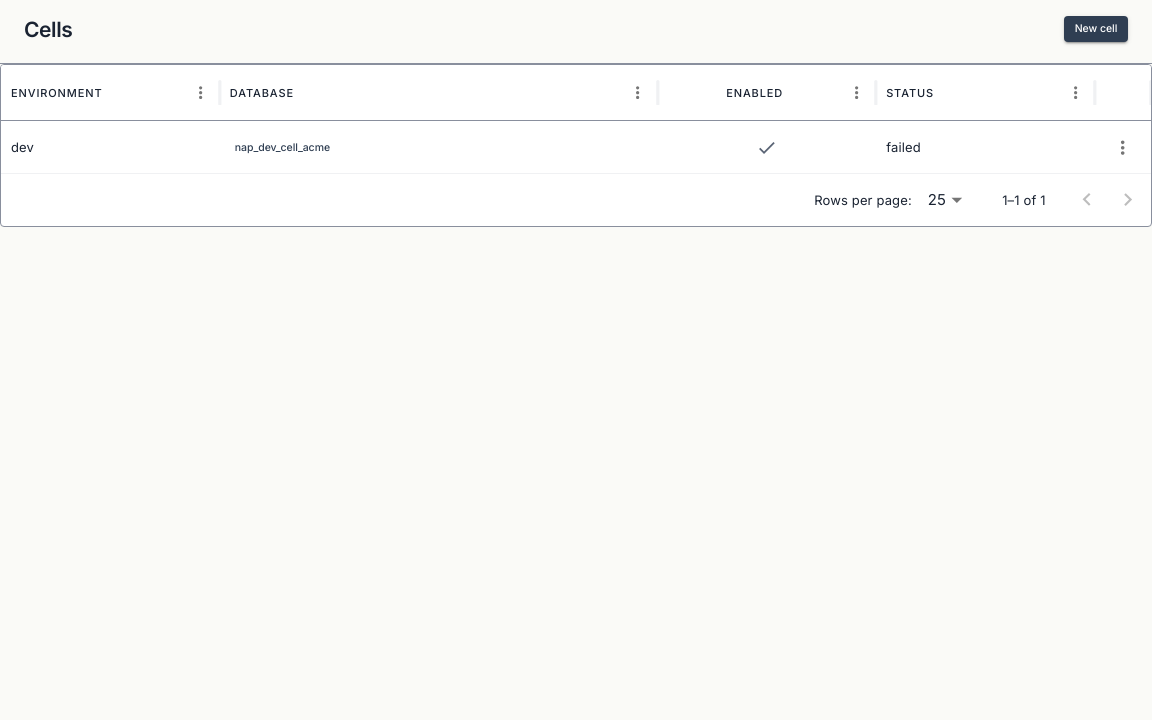
Test: CellsPage › shows the failure code in the detail (I0003 AC11, R044)
What coordinates should you click on to do the following:
click the button "nap_dev_cell_acme"
I would click on:
 (282, 148)
Its box is [230,135,335,162].
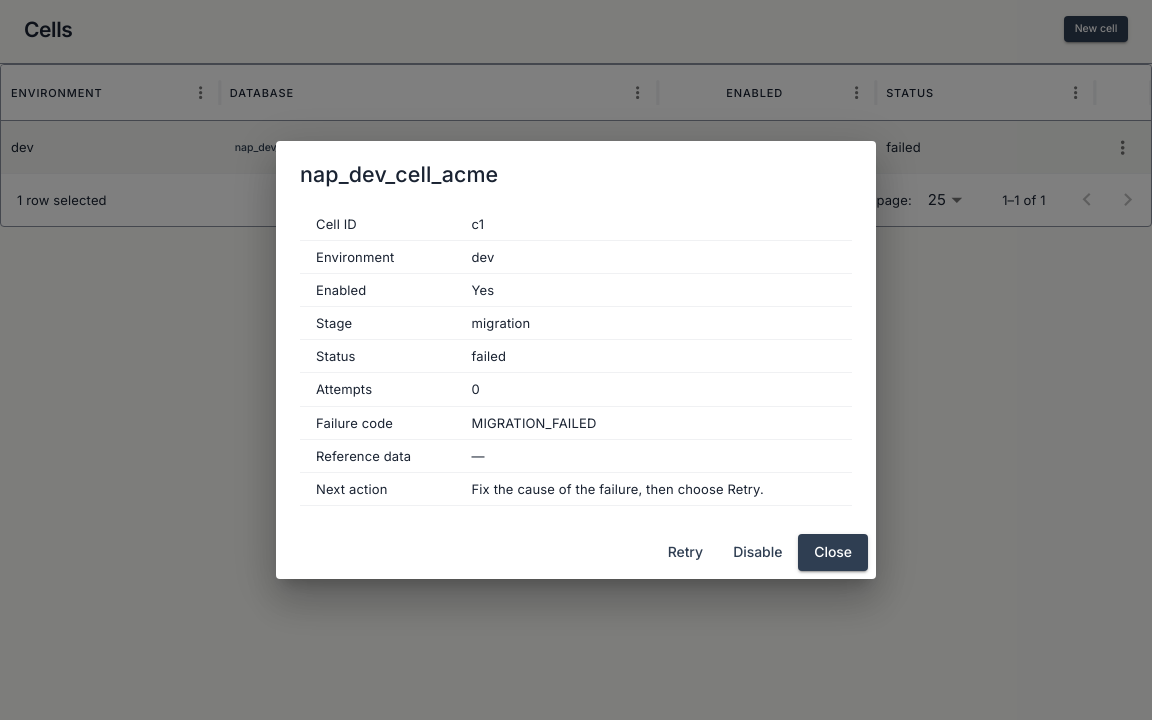
expect the text "MIGRATION_FAILED" is shown: met, box [456,406,852,439]
